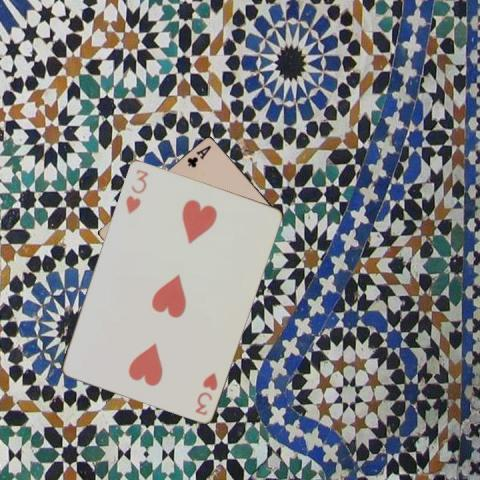3h: (122, 166, 149, 215), (192, 369, 219, 417)
Ac: (184, 143, 212, 169)
